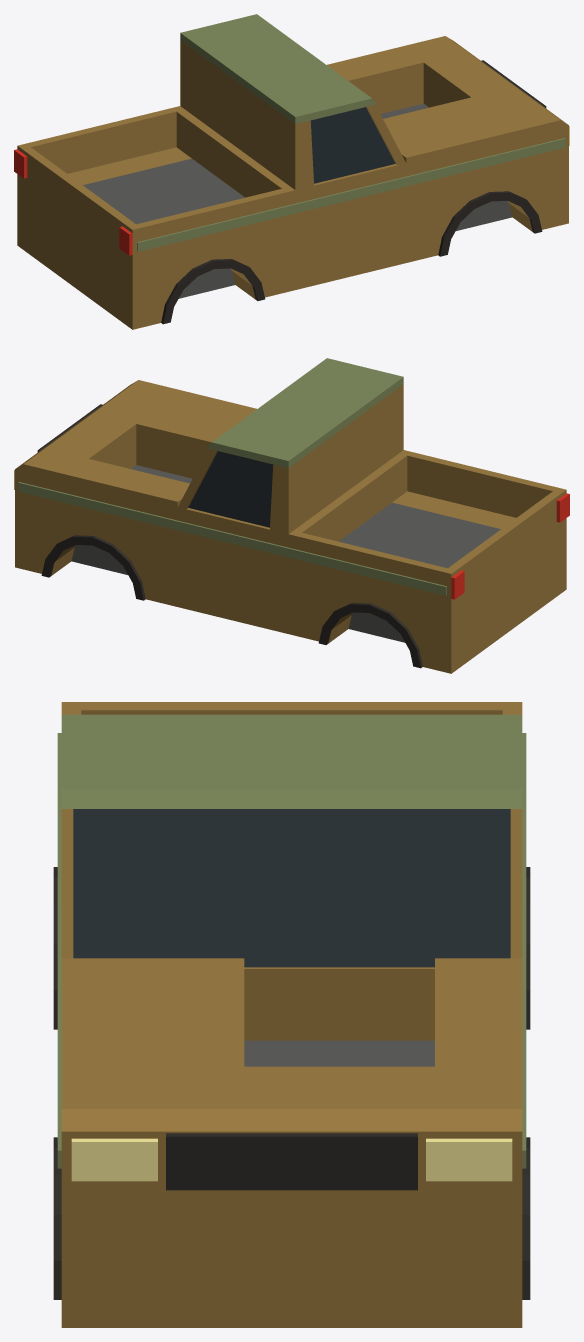
Rendered from base_scout.glb.
3 views of the same model, one above another, from view 1: azimuth 30°, elevation 25°; view 2: azimuth 150°, elevation 25°; view 3: azimuth 270°, elevation 25° (orthographic). The views are drawn at different scales.
Visible parts, largest first — view 1: base_scout; view 2: base_scout; view 3: base_scout.
Boxes of the visible parts, box(x1,y1,x2,y2) form: base_scout: box(14, 14, 569, 329); base_scout: box(14, 358, 569, 673); base_scout: box(53, 702, 530, 1327).
Size of the model in its own units: 5.2 by 1.94 by 2.42.
